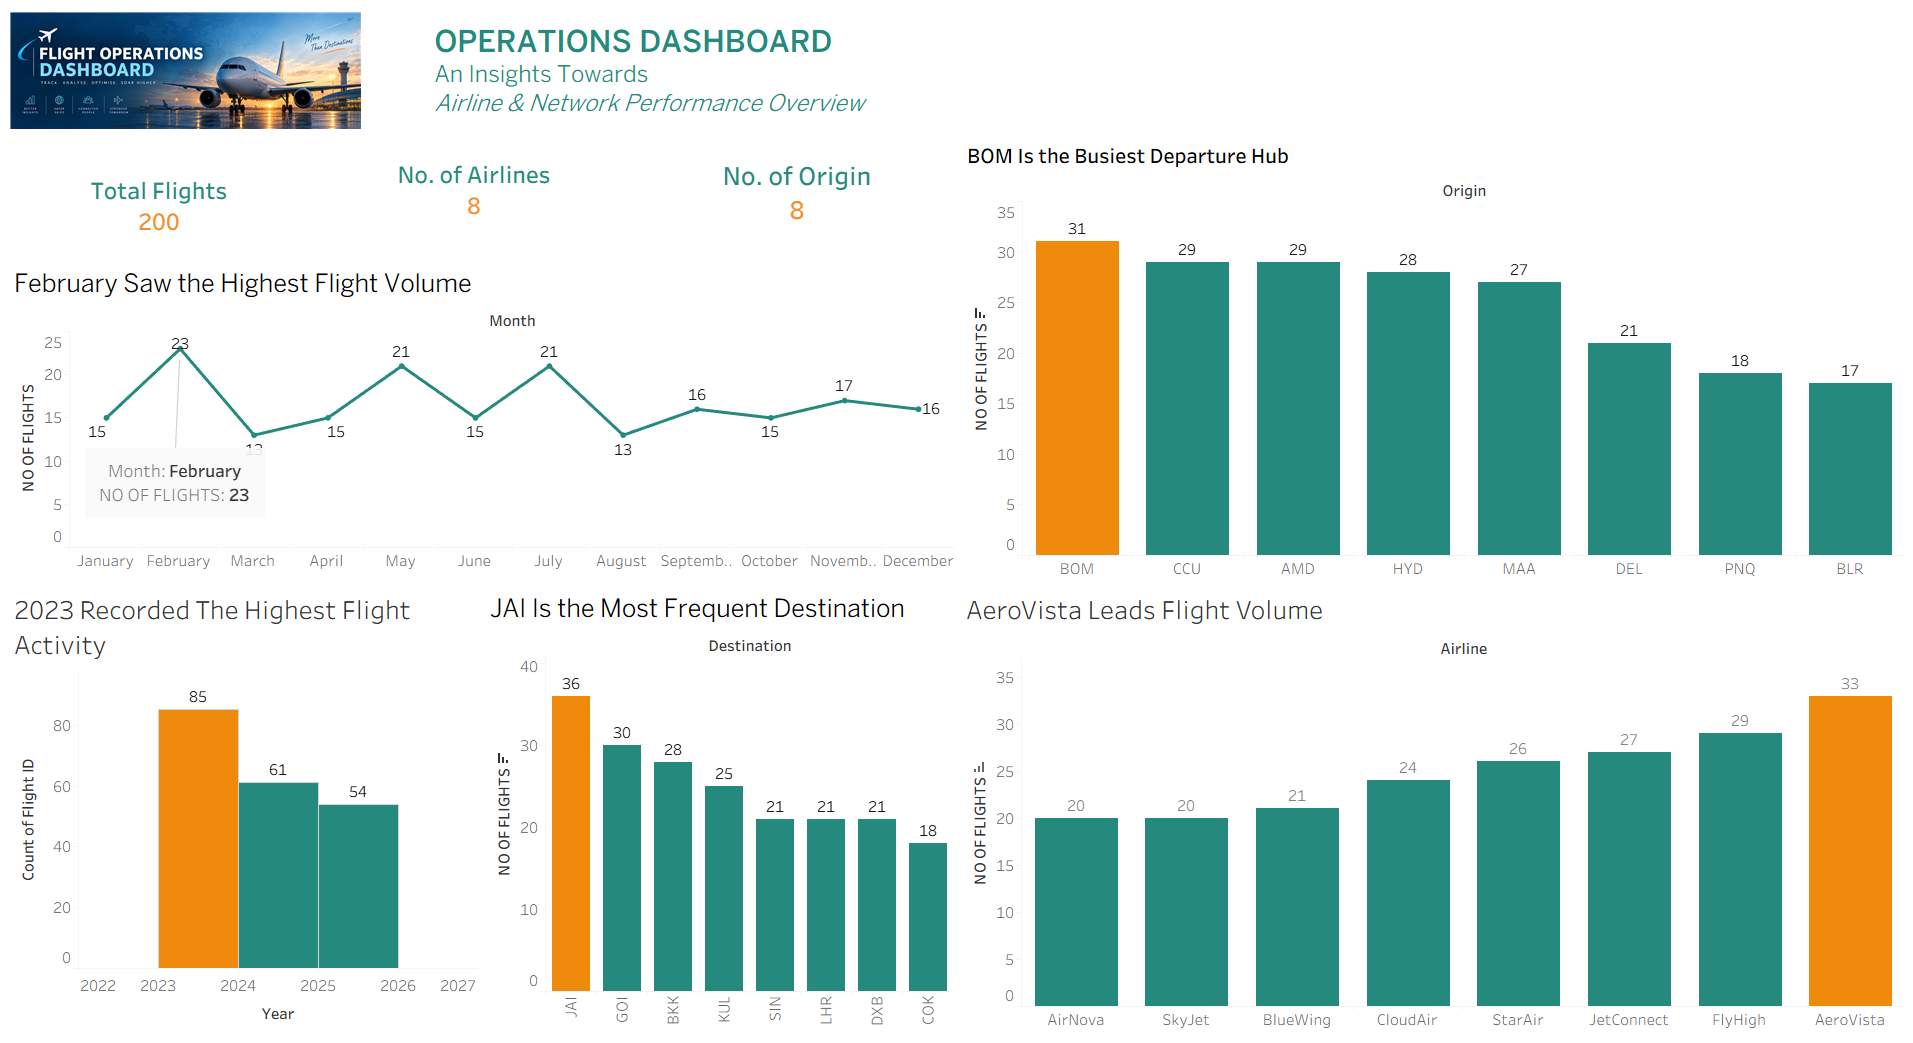

Layout of this report page (visuals, bound fields, positions):
{"tool":"tableau","page":{"name":"Dashboard 1","canvas":[1000,1000],"units":"permille","ordinal":0},"visuals":[{"type":"image","param":"C:/Users/gungu/Downloads/ChatGPT Image Sep 10, 2026, 02_08_37 PM.png","box":[4.2,7.7,219.4,120.3]},{"type":"title","box":[223.5,7.7,772.3,120.3]},{"type":"worksheet","title":"a.1 total flights KPI","mark":"Automatic","box":[4.2,127.9,159.5,120.3]},{"type":"worksheet","title":"a.2 no of airlines","mark":"Automatic","box":[163.7,127.9,168.3,120.3]},{"type":"worksheet","title":"a.3 No. of origin","mark":"Automatic","box":[332,127.9,168.3,120.3]},{"type":"worksheet","title":"Q4.HIGHEST NO OF FLIGHTS BY ORGIN","mark":"Bar","rows":["Calculation_0772175260704768"],"cols":["Origin"],"box":[500.3,127.9,495.5,432.1]},{"type":"worksheet","title":"Q3.HIGHEST NO OF FLIGHTS BY MONTH","mark":"Line","rows":["Calculation_0772175260704768"],"cols":["Month"],"box":[4.2,248.2,496.1,311.9]},{"type":"worksheet","title":"Q2.HIGHEST NO OF FLIGHTS BY YEAR","mark":"Bar","rows":["Flight_ID"],"cols":["Year"],"box":[4.2,560.1,247.9,432.2]},{"type":"worksheet","title":"Q5.HIGHEST NO OF FLIGHTS BY DESTINATION","mark":"Automatic","rows":["Calculation_0772175260704768"],"cols":["Destination"],"box":[252.1,560.1,247.9,432.2]},{"type":"worksheet","title":"Q1.HIGHEST NO OF FLIGHTS ","mark":"Automatic","rows":["Calculation_0772175260704768"],"cols":["Airline"],"box":[500,560.1,495.8,432.2]}]}

Visuals, with their boxes on the dashboard's canvas, which has no fixed pixel size, in thousandths of its width and height (x1, y1, x2, y2). These are canvas units, not pixel positions in the 1913x1043 screenshot, which may show the page scaled, cropped or inside an application window:
image: box=[4, 8, 224, 128]
title: box=[224, 8, 996, 128]
"a.1 total flights KPI" worksheet: box=[4, 128, 164, 248]
"a.2 no of airlines" worksheet: box=[164, 128, 332, 248]
"a.3 No. of origin" worksheet: box=[332, 128, 500, 248]
"Q4.HIGHEST NO OF FLIGHTS BY ORGIN" worksheet (Bar marks): box=[500, 128, 996, 560]
"Q3.HIGHEST NO OF FLIGHTS BY MONTH" worksheet (Line marks): box=[4, 248, 500, 560]
"Q2.HIGHEST NO OF FLIGHTS BY YEAR" worksheet (Bar marks): box=[4, 560, 252, 992]
"Q5.HIGHEST NO OF FLIGHTS BY DESTINATION" worksheet: box=[252, 560, 500, 992]
"Q1.HIGHEST NO OF FLIGHTS " worksheet: box=[500, 560, 996, 992]
